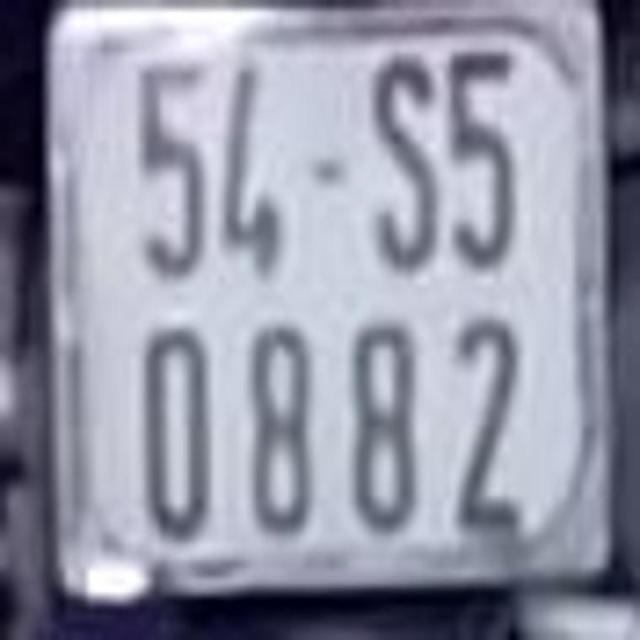0: (143, 324, 213, 540)
2: (452, 316, 530, 532)
4: (220, 64, 284, 280)
5: (135, 59, 208, 279), (448, 48, 519, 267)
8: (248, 322, 314, 536), (352, 319, 418, 532)
S: (369, 52, 439, 270)
